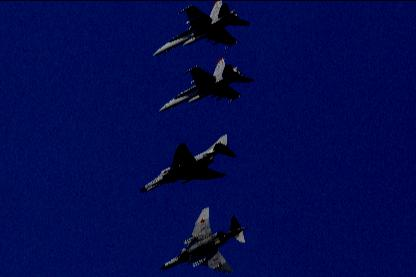F15: (152, 0, 250, 55), (158, 57, 254, 111)
F35: (156, 206, 250, 273), (136, 133, 236, 192)
